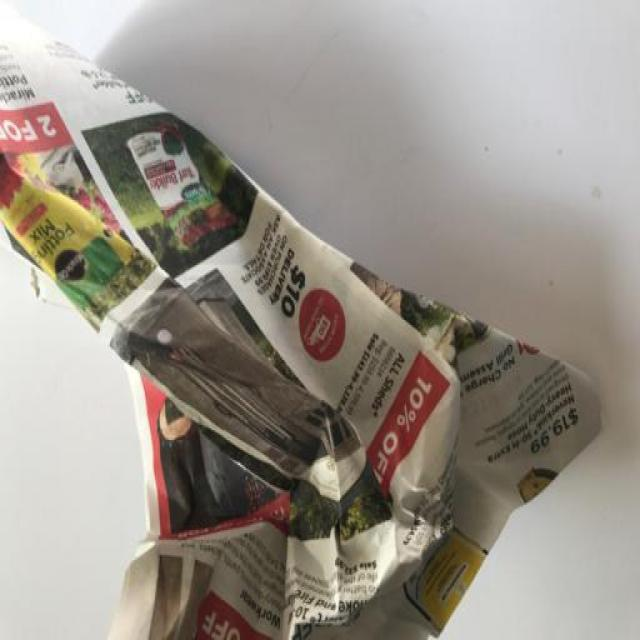paper: (1, 19, 640, 640)
